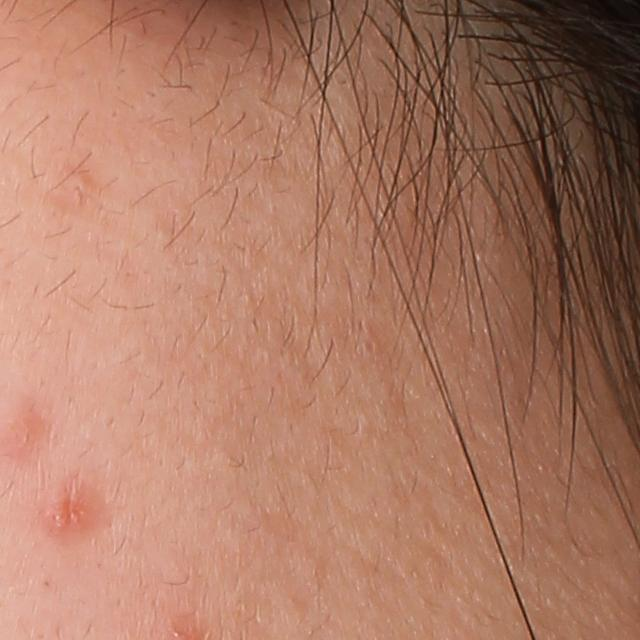papule: (36, 481, 105, 540)
